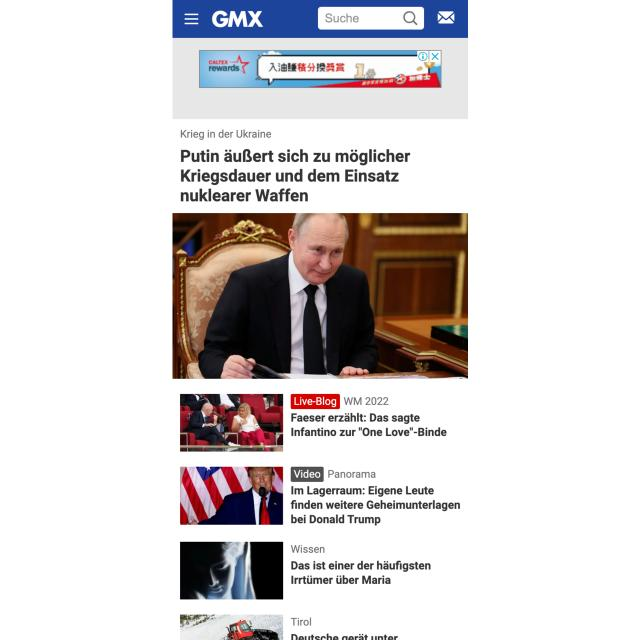CheckBox: (434, 8, 460, 27)
CheckedTextView: (317, 6, 426, 30)
ImageView: (173, 37, 468, 119)
RadioButton: (292, 391, 342, 412), (291, 464, 326, 484)
bag: (172, 0, 468, 39)
carousel: (435, 9, 457, 27), (402, 8, 421, 27)
copy: (172, 212, 468, 380), (180, 464, 285, 525), (180, 392, 284, 453), (180, 540, 284, 600)
date picker: (210, 10, 268, 32)
decoration: (182, 11, 202, 27)
footer: (324, 11, 361, 26)
image: (175, 147, 418, 207)
